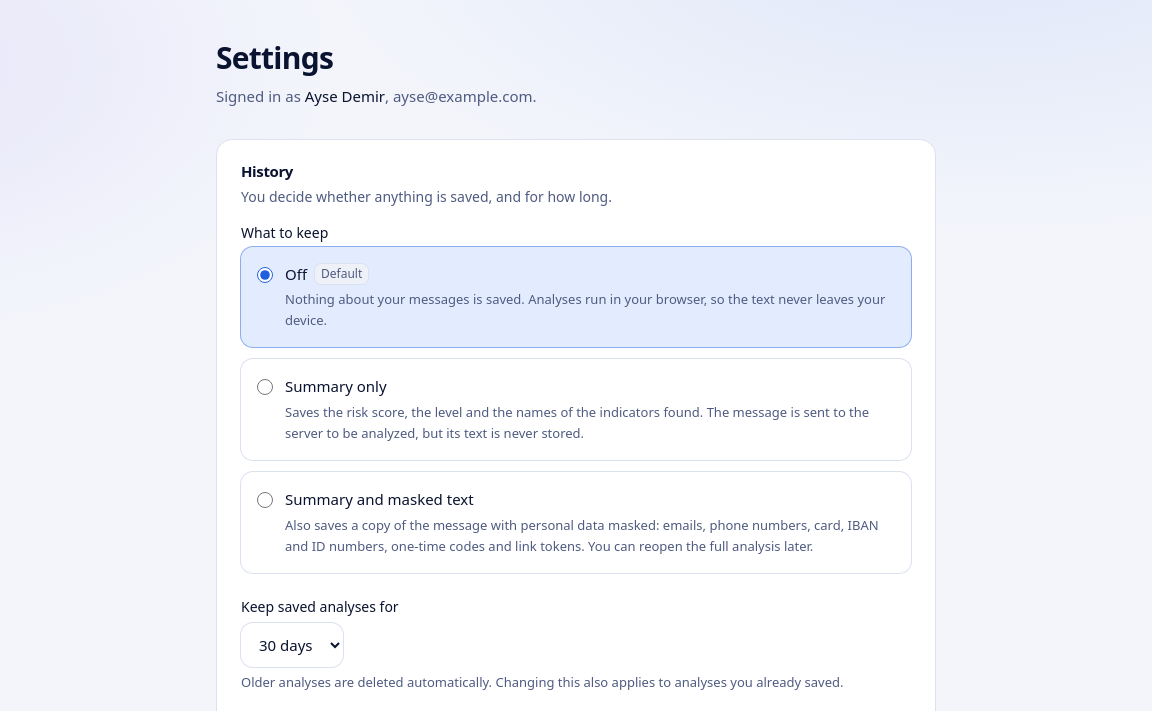
Test: SettingsPage › shows a save failure
Click the radio button labelled "Summary only": (265, 387) [257,379,273,395]
(page scrolled)
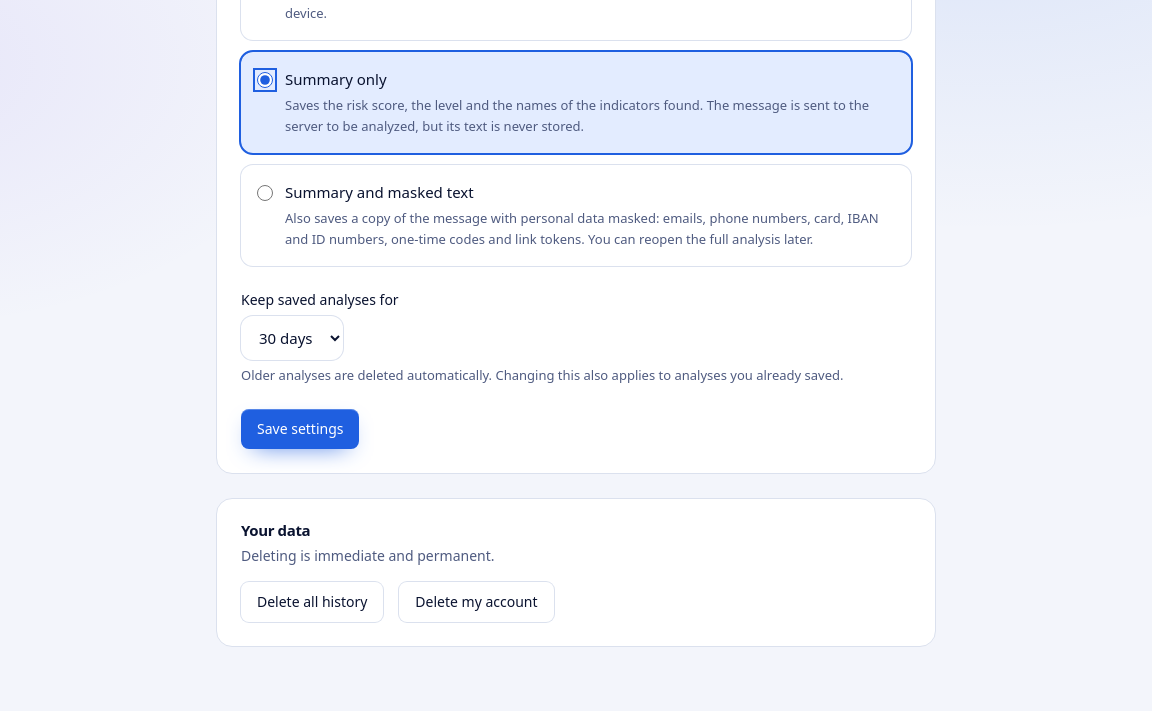
Click the button "Save settings": (300, 429) [241,409,360,449]
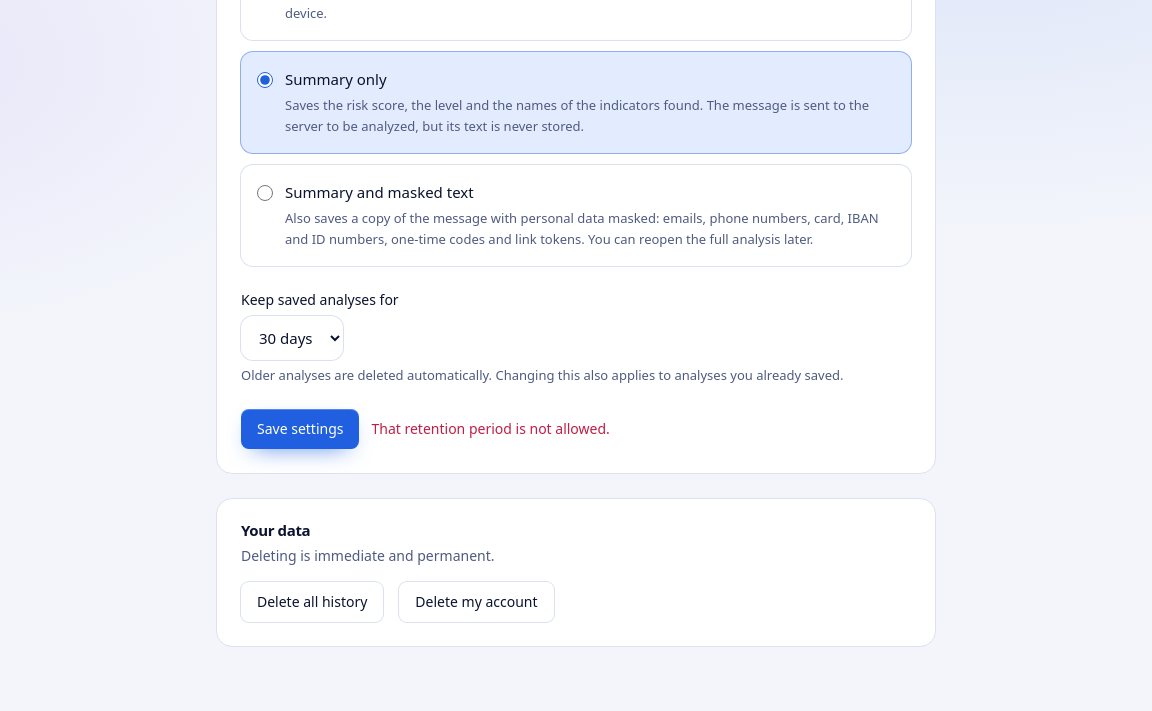
expect the message reads "That retention period is not allowed.": met, box [372,419,610,438]
